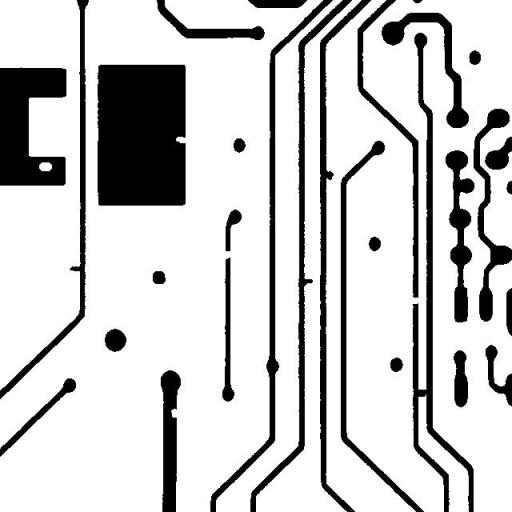copper: (145, 263, 173, 291)
mousebite: (163, 401, 186, 425), (168, 129, 194, 150)
open: (215, 244, 240, 266), (403, 290, 427, 311)
pin-hole: (31, 154, 59, 178)
short: (408, 382, 438, 404)
spur: (315, 162, 341, 188), (294, 271, 320, 294), (62, 258, 88, 278)
